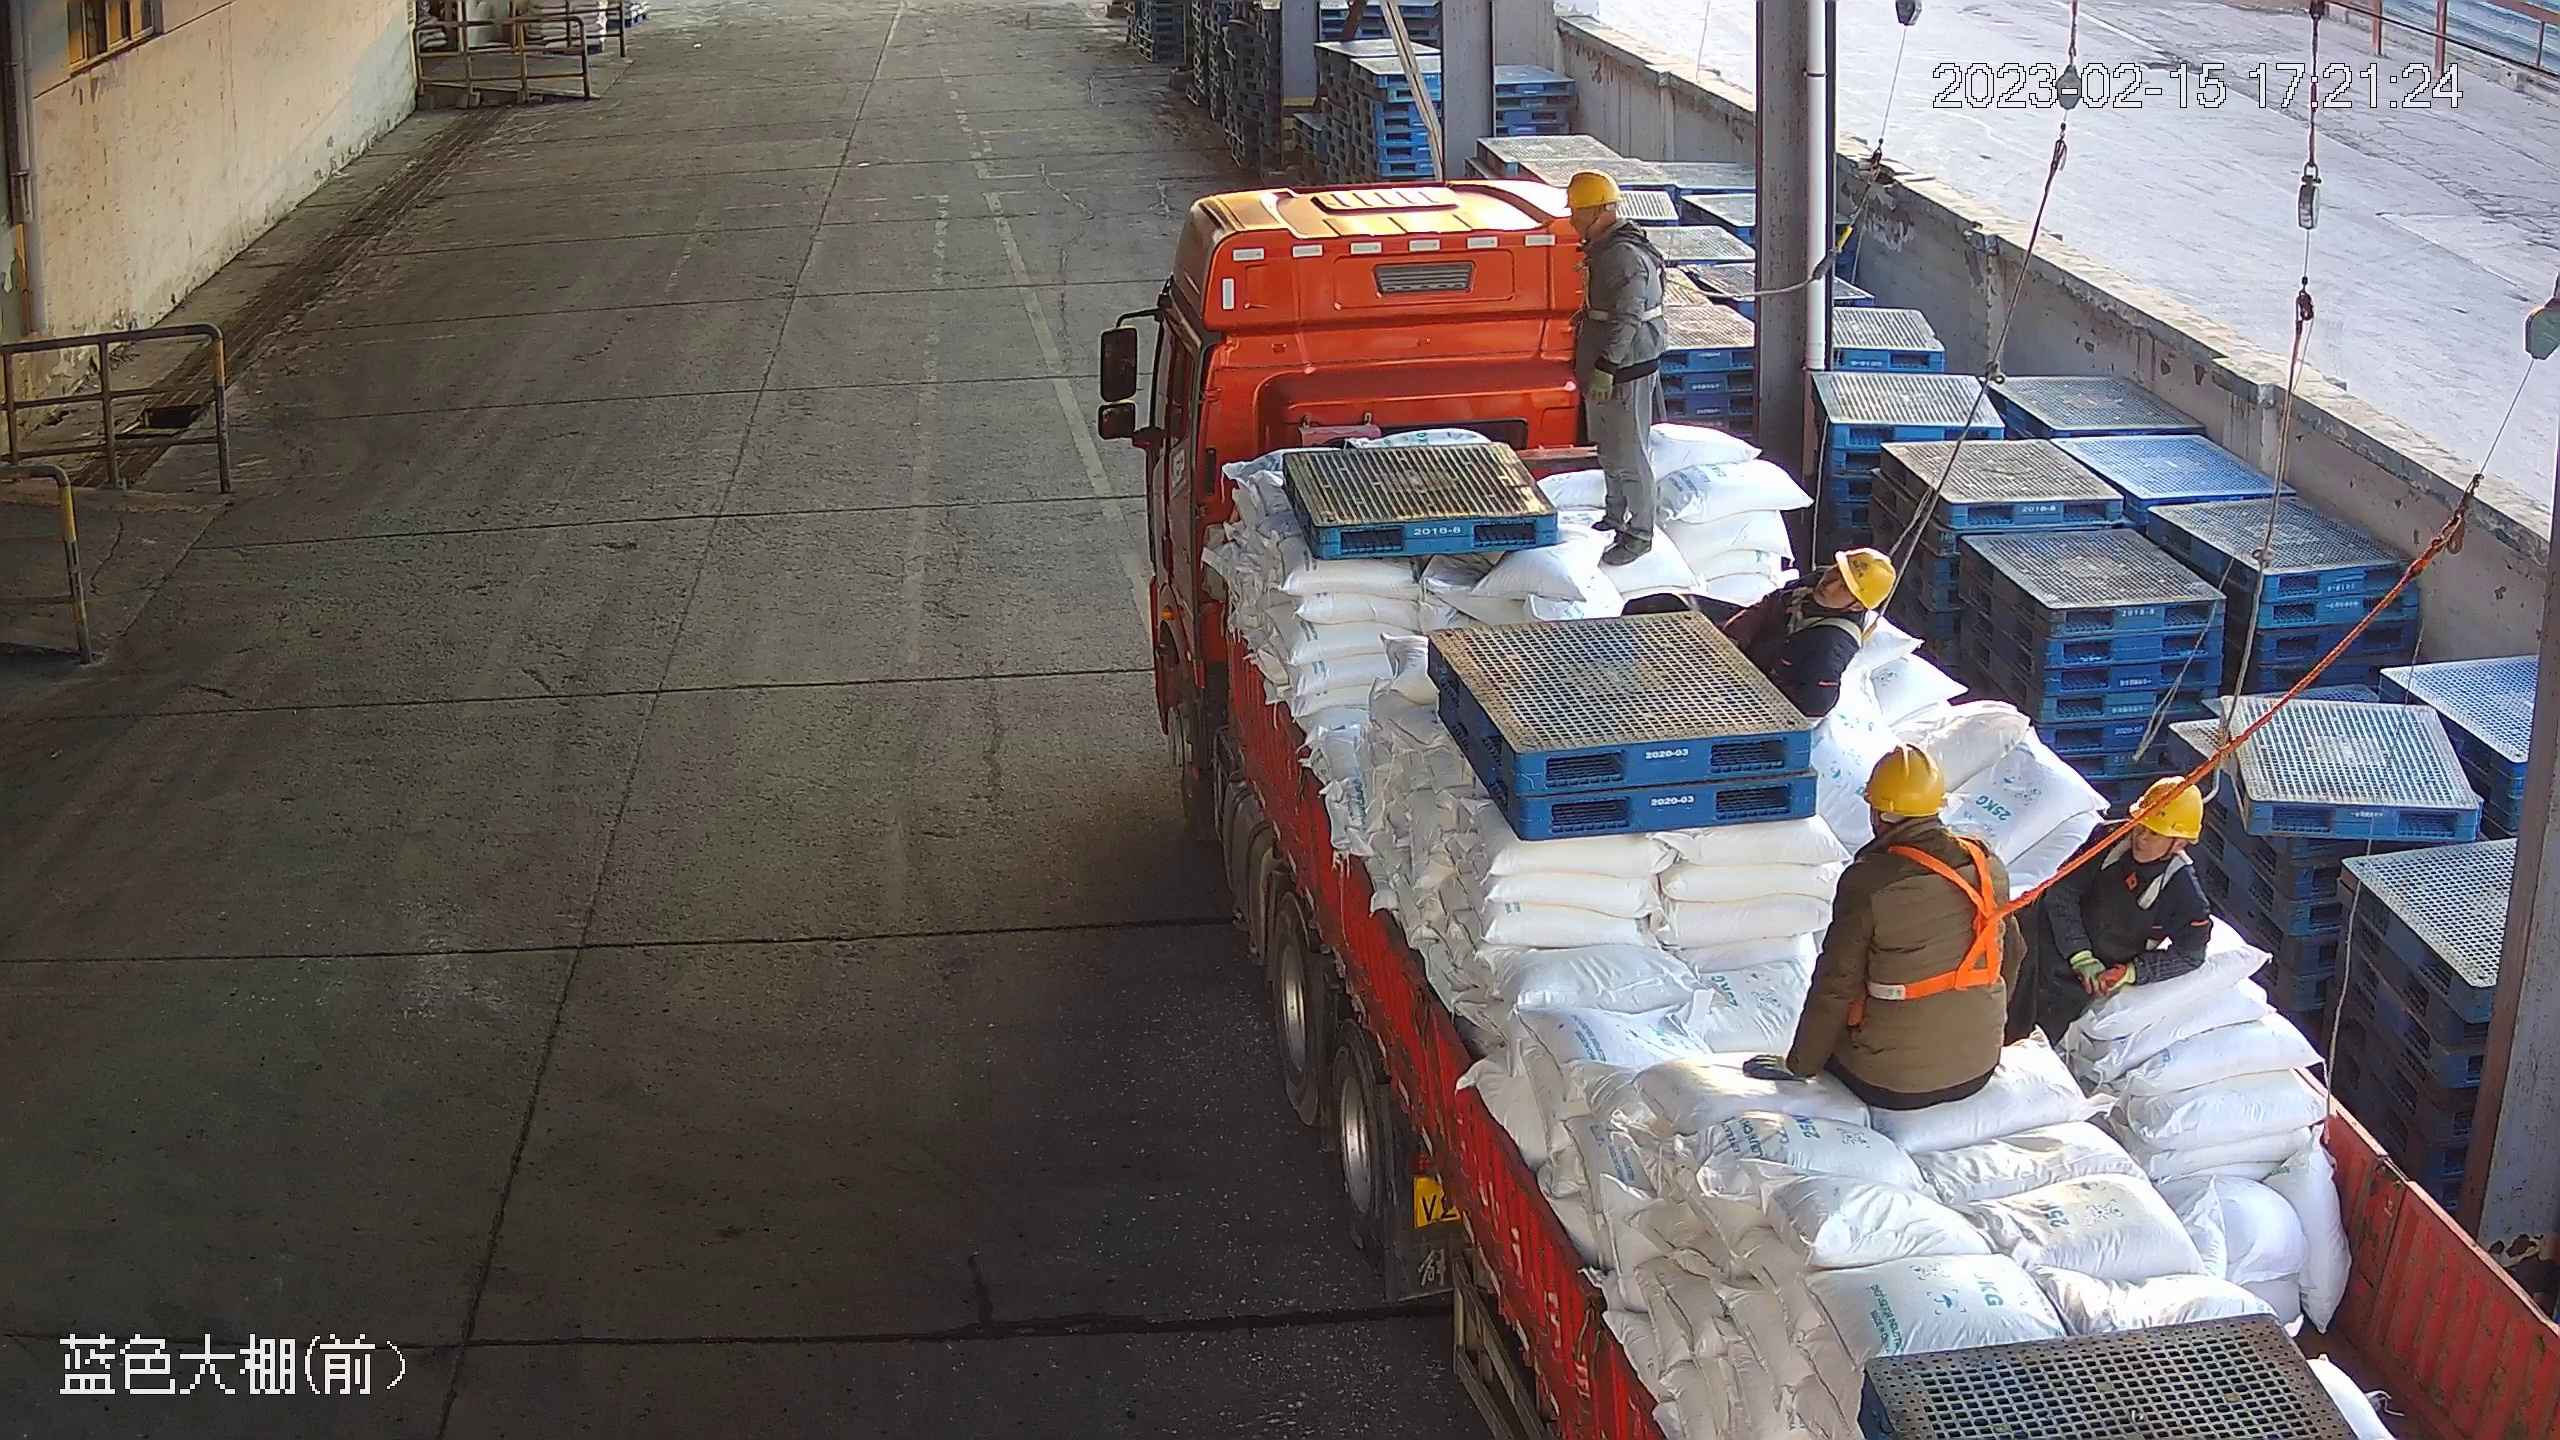belt: (1870, 836, 2007, 1006), (1573, 217, 1664, 330), (2096, 821, 2199, 908), (1779, 580, 1862, 649)
head: (1833, 736, 2007, 912), (2053, 769, 2209, 934), (1761, 547, 1886, 684), (1566, 171, 1679, 295)
helmet: (1862, 738, 1961, 836), (2129, 766, 2220, 853), (1831, 548, 1905, 605), (1561, 173, 1636, 216)
people: (1744, 733, 2024, 1108), (1557, 177, 1698, 560)
truck: (1105, 175, 2560, 1440)
